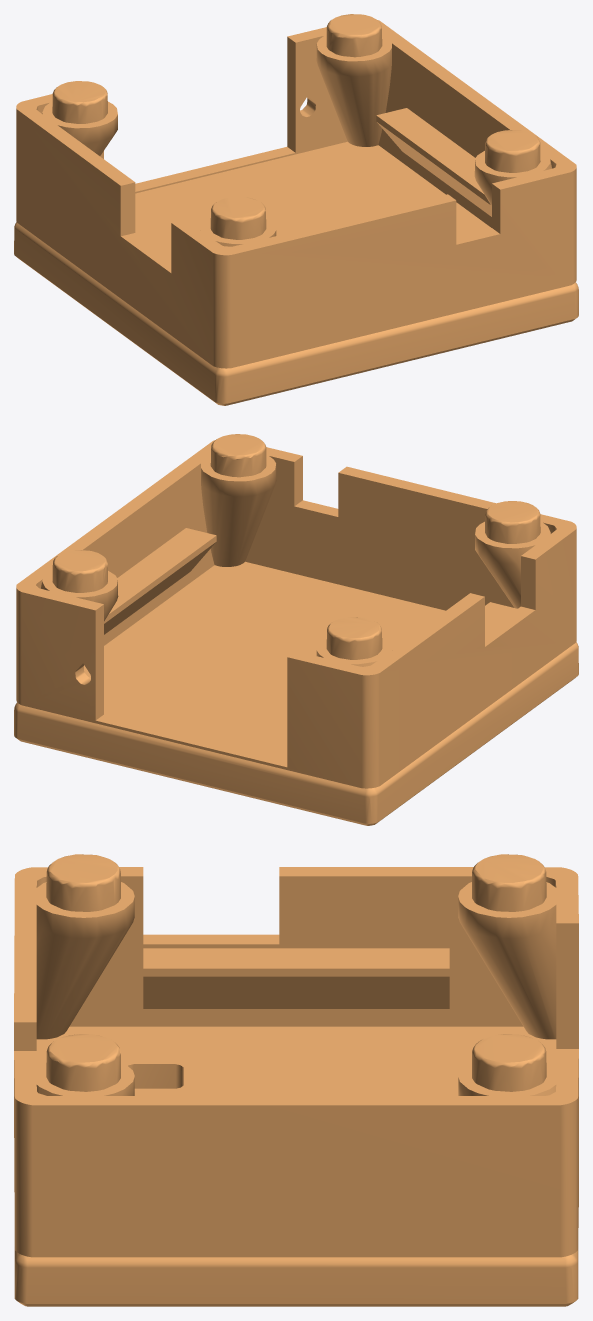
File: mech-brain-tray.glb
3 views of the same model, one above another, from view 1: azimuth 30°, elevation 25°; view 2: azimuth 150°, elevation 25°; view 3: azimuth 270°, elevation 25° (orthographic). The views are drawn at different scales.
Visible parts, largest first — view 1: mech-brain-tray; view 2: mech-brain-tray; view 3: mech-brain-tray.
Boxes of the visible parts, box(x1,y1,x2,y2) form: mech-brain-tray: box(14, 14, 578, 405); mech-brain-tray: box(14, 434, 578, 825); mech-brain-tray: box(14, 854, 578, 1306).
Bounding box in the file's own units: 0.0497 × 0.0225 × 0.0498.
